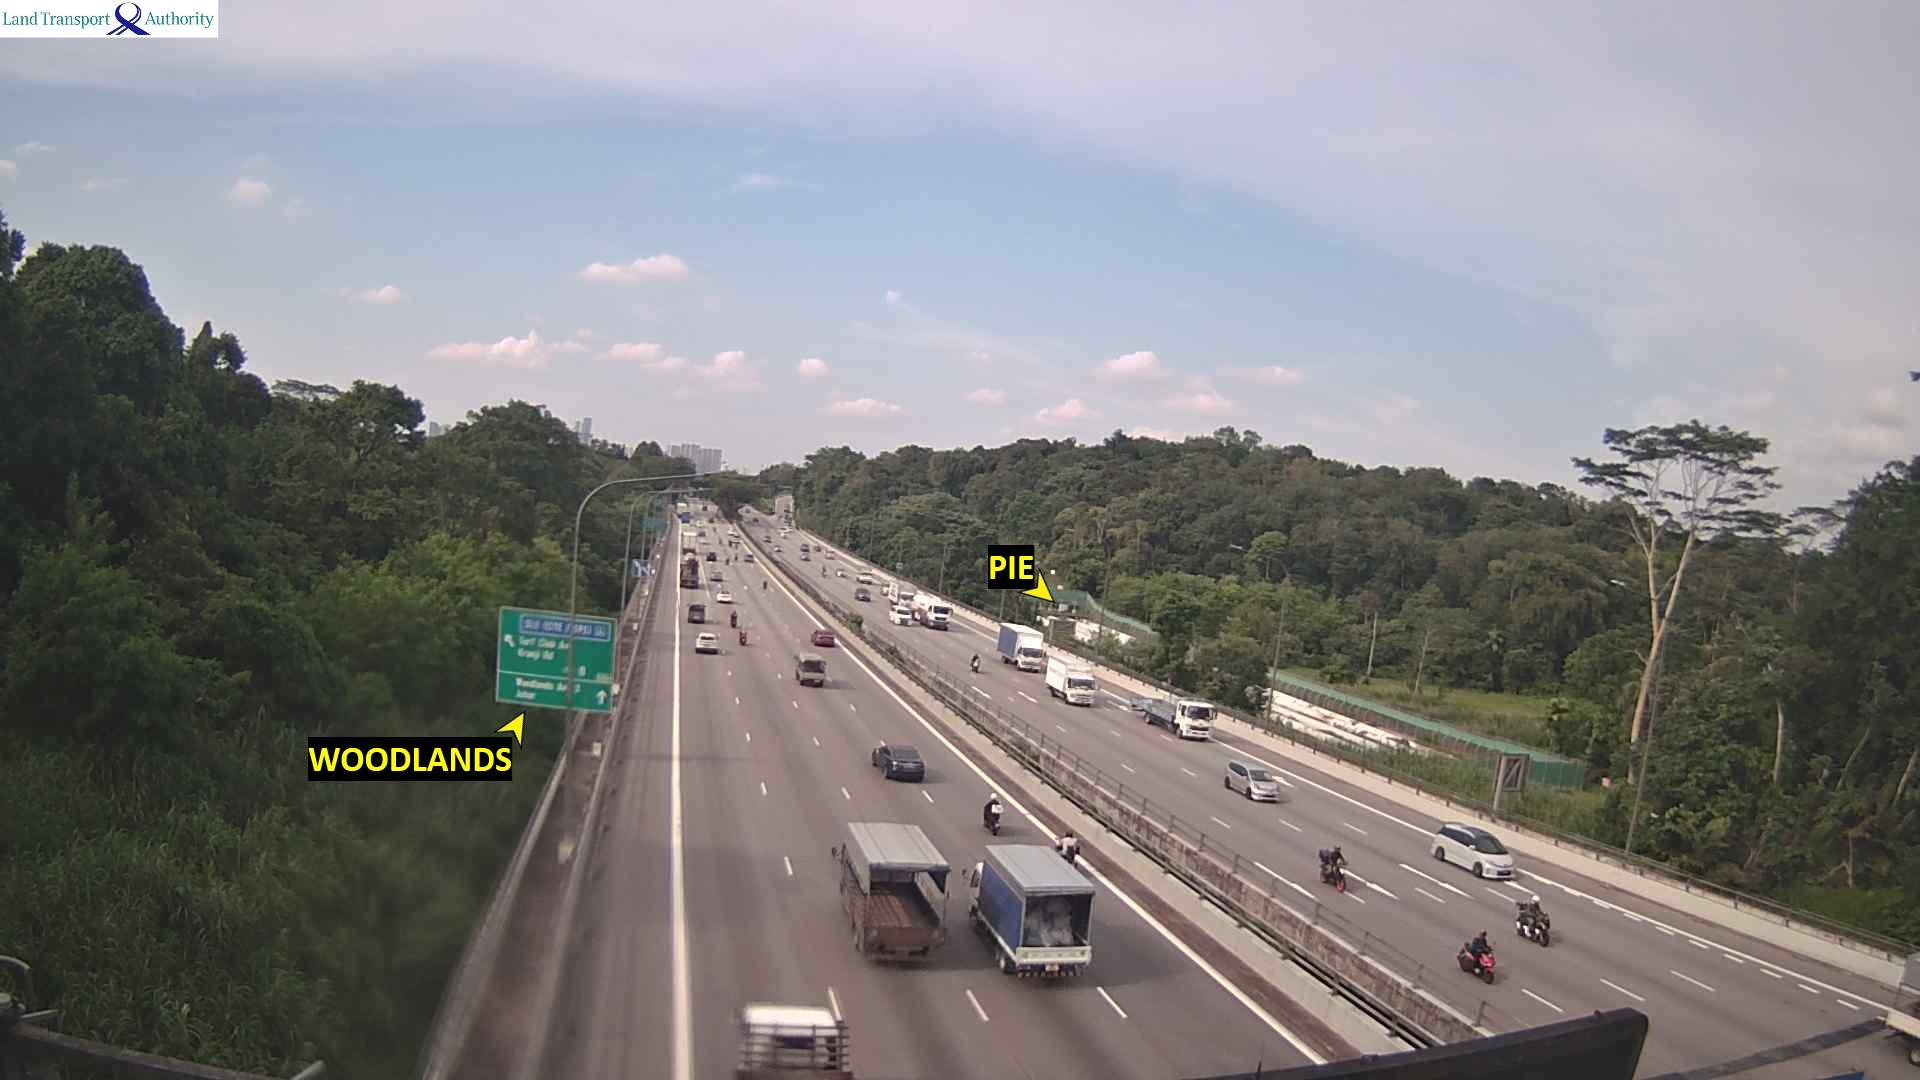cars: (1429, 821, 1514, 880), (1224, 758, 1280, 801), (871, 740, 925, 781), (693, 631, 718, 654), (888, 602, 912, 625), (811, 628, 835, 646), (686, 602, 704, 622), (856, 570, 875, 583), (708, 565, 723, 581), (715, 589, 733, 602), (854, 586, 870, 600), (741, 551, 754, 563), (705, 551, 719, 562), (881, 581, 890, 595), (800, 552, 811, 563), (834, 567, 845, 578), (799, 542, 810, 553), (761, 535, 774, 544), (778, 529, 789, 538), (814, 544, 823, 553), (700, 538, 711, 545), (751, 517, 762, 524), (774, 545, 782, 552), (698, 531, 708, 536), (786, 528, 795, 533), (708, 516, 715, 522)
motorcycle: (1513, 897, 1551, 947), (1456, 939, 1496, 984), (1317, 846, 1346, 887), (1051, 831, 1084, 862), (983, 802, 1003, 835), (971, 652, 981, 674), (738, 631, 749, 645), (730, 610, 739, 626), (821, 564, 829, 579), (724, 556, 730, 565), (762, 580, 768, 589), (718, 538, 724, 544), (734, 554, 739, 561), (729, 540, 733, 547), (713, 526, 717, 532)
trucks: (963, 842, 1096, 981), (830, 819, 951, 964), (733, 985, 853, 1079), (1127, 684, 1216, 740), (1044, 655, 1096, 706), (995, 622, 1044, 671), (915, 592, 954, 630), (794, 655, 827, 687), (889, 578, 916, 610), (679, 554, 701, 588), (682, 530, 698, 554), (681, 512, 693, 526), (824, 548, 836, 560), (695, 520, 704, 527)
